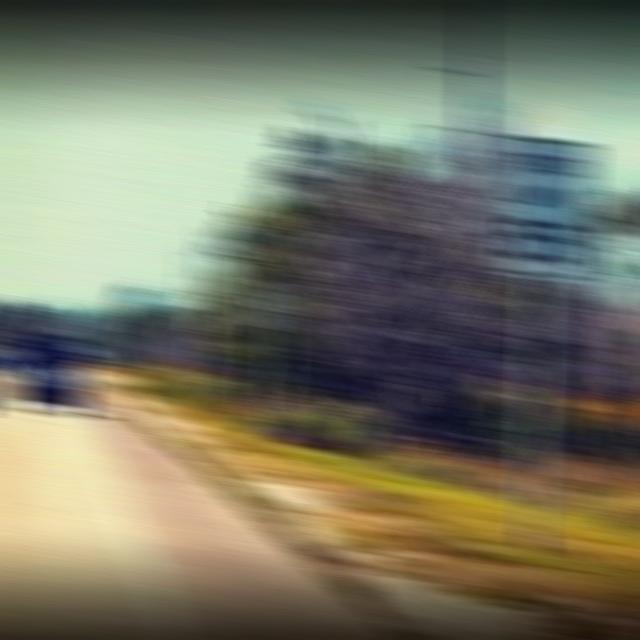speedLimit55: (492, 122, 594, 286)
